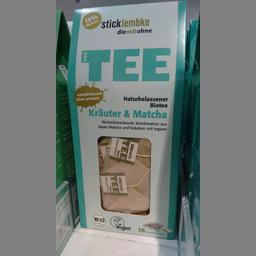tea: (64, 0, 185, 237)
